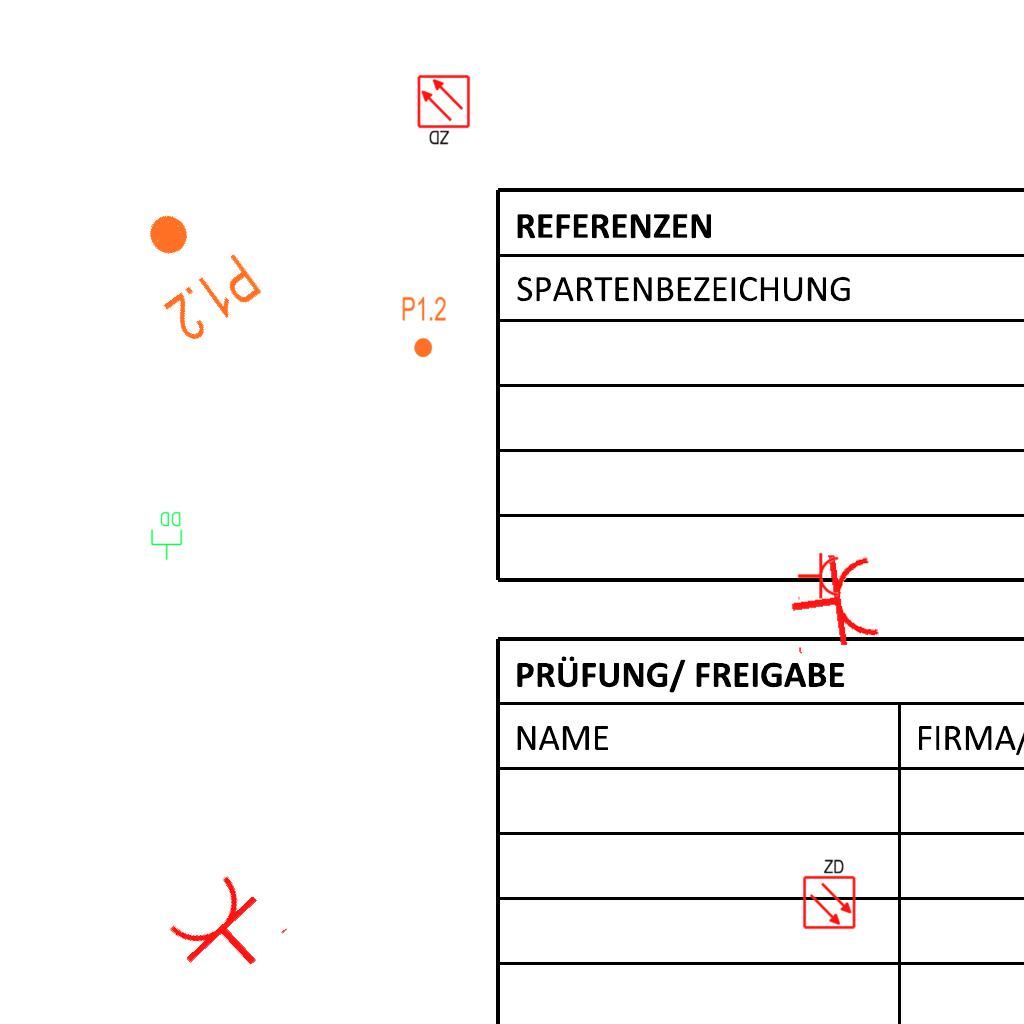Datenanschluss_zweifach: (150, 510, 184, 561)
Downlight_LED_Einbauleuchten_Flur: (116, 189, 267, 349), (401, 295, 447, 359)
Schukosteckdose_einfach: (160, 865, 293, 997), (783, 547, 884, 659), (797, 552, 840, 602)
ZD_Melder_in_Zwischendecke_mit_Revisionsoeffnung_mind_40_x_40_cm: (416, 74, 473, 148), (800, 856, 857, 930)
